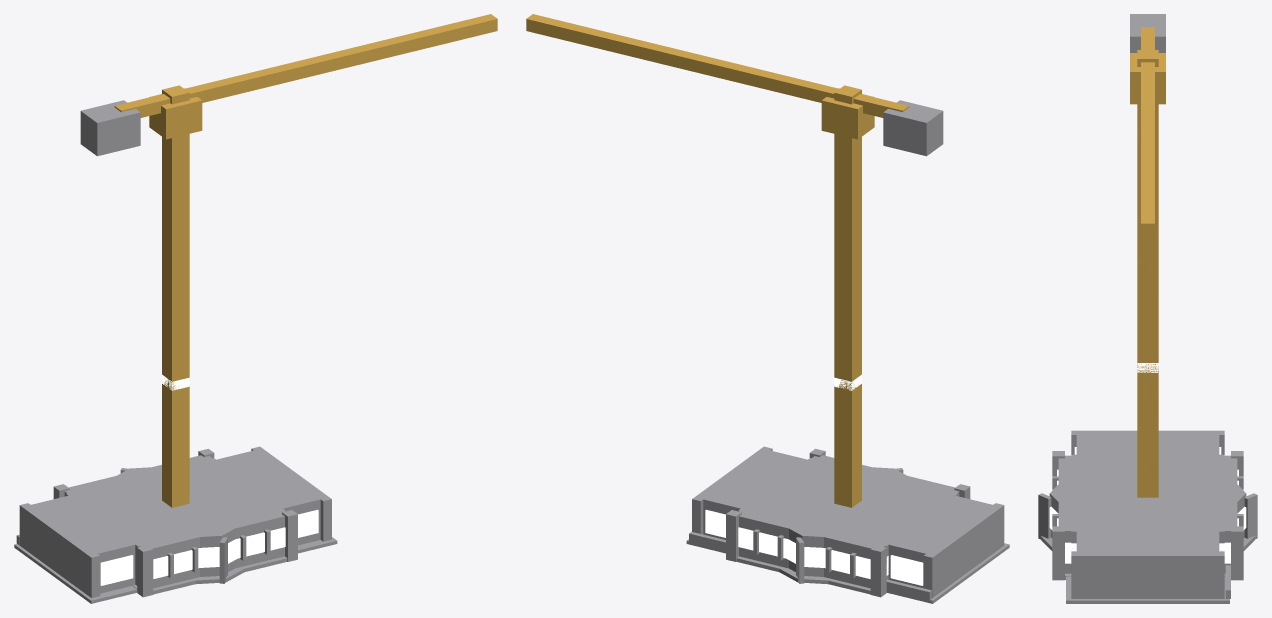
The picture shows the model from 3 angles, left to right: view 1: azimuth 30°, elevation 25°; view 2: azimuth 150°, elevation 25°; view 3: azimuth 270°, elevation 25°; orthographic projection. The views are drawn at different scales.
Visible parts, largest first — view 1: crane, floor_c_body, floor_c_detail, floor_a_body, floor_a_detail, floor_b_body, floor_a_win, floor_c_win, floor_b_detail, floor_b_win; view 2: crane, floor_c_body, floor_c_detail, floor_a_body, floor_b_body, floor_a_detail, floor_a_win, floor_c_win, floor_b_detail, floor_b_win; view 3: floor_c_body, crane, floor_c_detail, floor_a_body, floor_a_detail, floor_b_detail, floor_b_body, floor_a_win.
Part boxes in pixels (box(x1,y1,x2,y2)): crane: box(80, 14, 497, 507); floor_c_body: box(31, 449, 324, 593); floor_c_detail: box(14, 446, 337, 603); floor_a_body: box(64, 455, 284, 588); floor_a_detail: box(53, 448, 297, 597); floor_b_body: box(92, 467, 255, 576); floor_a_win: box(153, 527, 285, 578); floor_c_win: box(100, 509, 318, 585); floor_b_detail: box(120, 468, 244, 584); floor_b_win: box(198, 538, 239, 567); crane: box(526, 14, 943, 507); floor_c_body: box(699, 449, 992, 588); floor_c_detail: box(686, 446, 1009, 603); floor_a_body: box(739, 455, 959, 588); floor_b_body: box(767, 467, 931, 576); floor_a_detail: box(726, 448, 970, 597); floor_a_win: box(738, 527, 888, 578); floor_c_win: box(705, 509, 923, 585); floor_b_detail: box(779, 468, 903, 584); floor_b_win: box(784, 538, 825, 567); floor_c_body: box(1076, 433, 1219, 553); crane: box(1130, 14, 1165, 497); floor_c_detail: box(1066, 430, 1230, 603); floor_a_body: box(1058, 455, 1237, 573); floor_a_detail: box(1052, 451, 1243, 580); floor_b_detail: box(1038, 493, 1257, 550); floor_b_body: box(1049, 454, 1246, 537); floor_a_win: box(1057, 469, 1238, 563).
Bounding box in the file's own units: 3.05 × 3.07 × 1.23.
